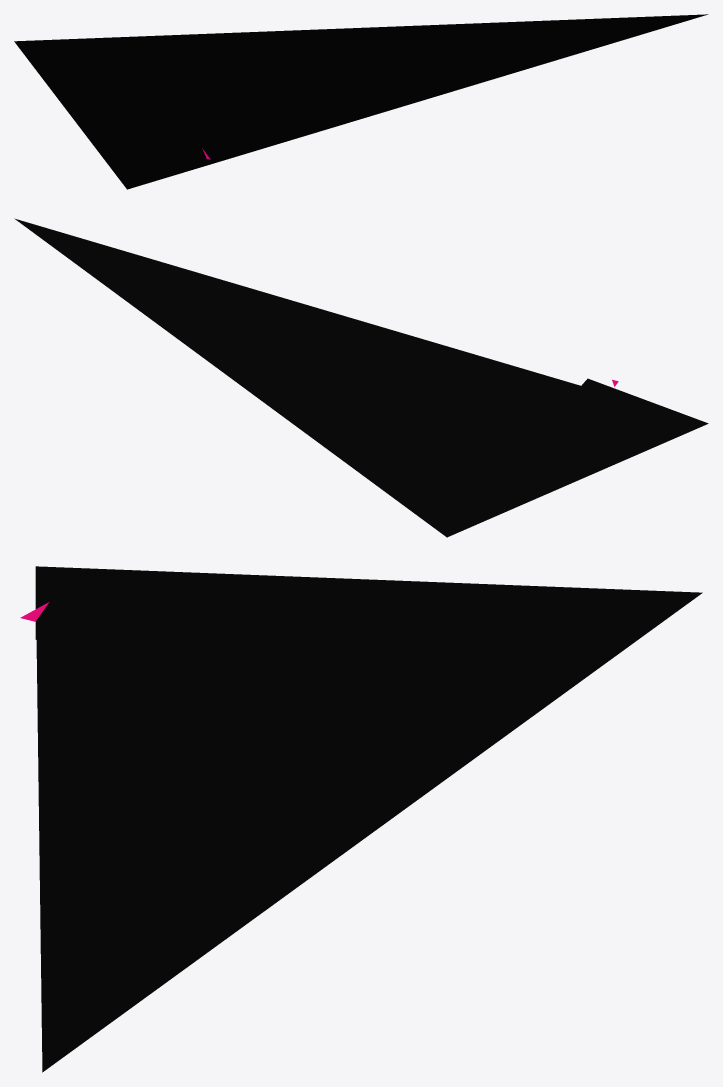
3 renders of one model, top to bottom at view 1: azimuth 30°, elevation 25°; view 2: azimuth 150°, elevation 25°; view 3: azimuth 270°, elevation 25°, orthographic. The views are drawn at different scales.
Visible parts, largest first — view 1: Cube.061; view 2: Cube.061; view 3: Cube.061.
Part boxes in pixels (x1,y1,x2,y2): Cube.061: [14, 14, 708, 189]; Cube.061: [14, 218, 708, 537]; Cube.061: [35, 566, 702, 1072].
Bounding box in the file's own units: 77483 × 4013 × 39284.
Materials: 2 (1 with a texture image).
